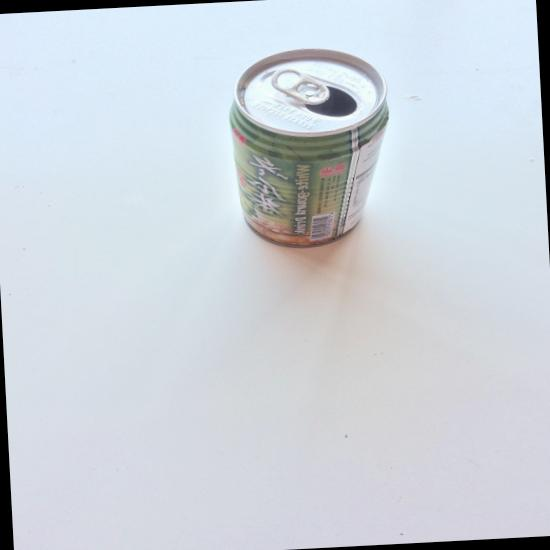Drink can: (229, 49, 389, 248)
Pop tab: (271, 68, 329, 104)
